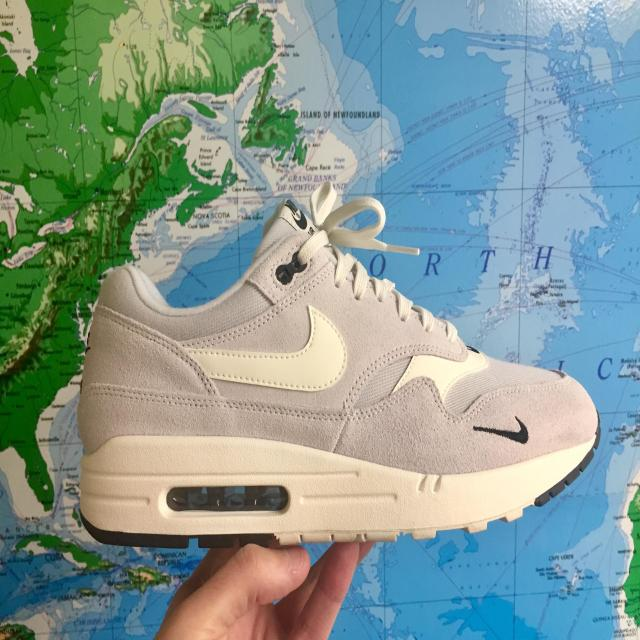shoe: (72, 171, 612, 566)
